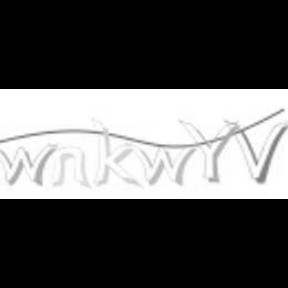V: (224, 118, 288, 184)
Y: (178, 116, 240, 184)
k: (89, 116, 138, 188)
n: (46, 142, 92, 190)
w: (126, 142, 198, 184), (1, 144, 58, 186)
